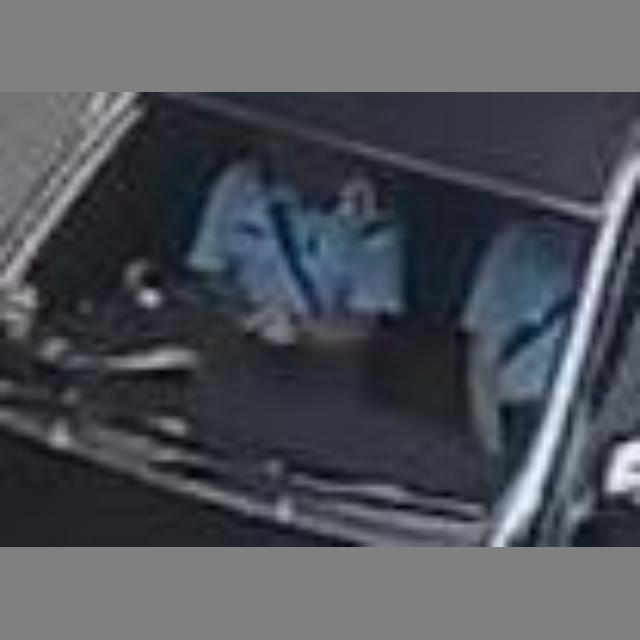pakai: (178, 141, 394, 369), (455, 209, 609, 400)
